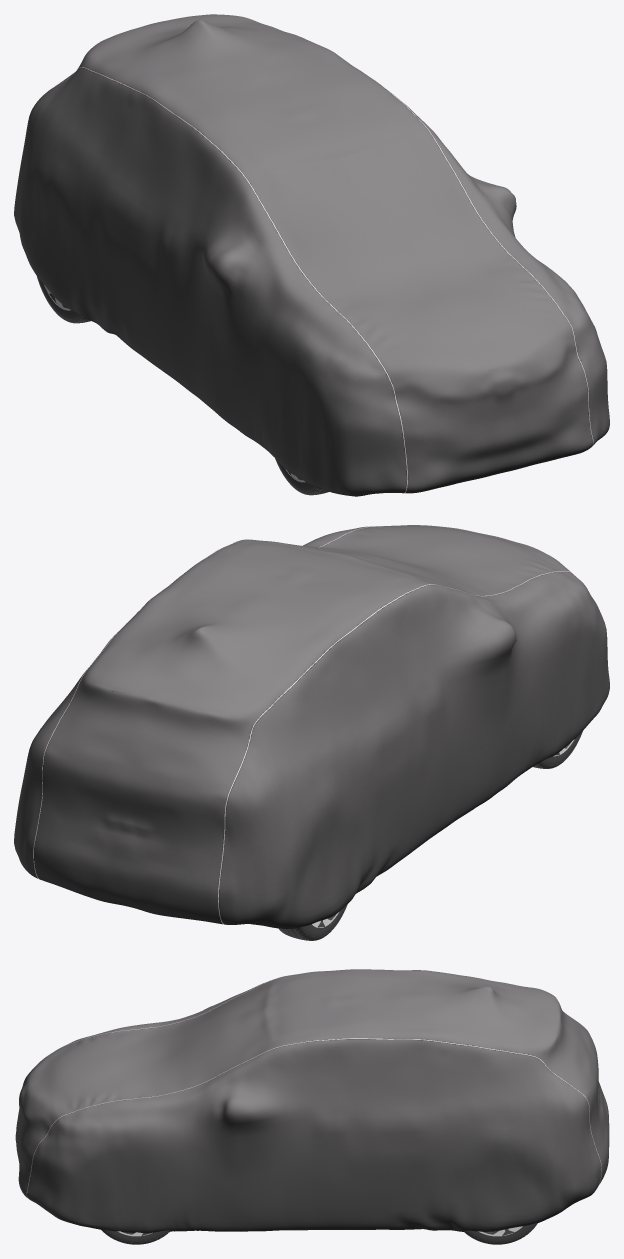
The model's file is suv.glb.
The picture shows the model from 3 angles, top to bottom: view 1: azimuth 30°, elevation 25°; view 2: azimuth 150°, elevation 25°; view 3: azimuth 270°, elevation 25°; orthographic projection. The views are drawn at different scales.
Parts seen in each view (by area): view 1: CAPA, LINHA.001, RODAS; view 2: CAPA, RODAS, LINHA.001; view 3: CAPA, RODAS, LINHA.001.
Boxes of the visible parts, box(x1,y1,x2,y2) form: CAPA: box(14, 14, 609, 496); LINHA.001: box(49, 54, 593, 493); RODAS: box(37, 276, 329, 495); CAPA: box(14, 525, 609, 928); RODAS: box(278, 731, 582, 940); LINHA.001: box(33, 526, 571, 924); CAPA: box(15, 969, 609, 1233); RODAS: box(101, 1223, 537, 1244); LINHA.001: box(26, 969, 601, 1198).
Bounding box in the file's own units: 18.27 × 15.89 × 41.
Materials: 6 (2 with a texture image).
